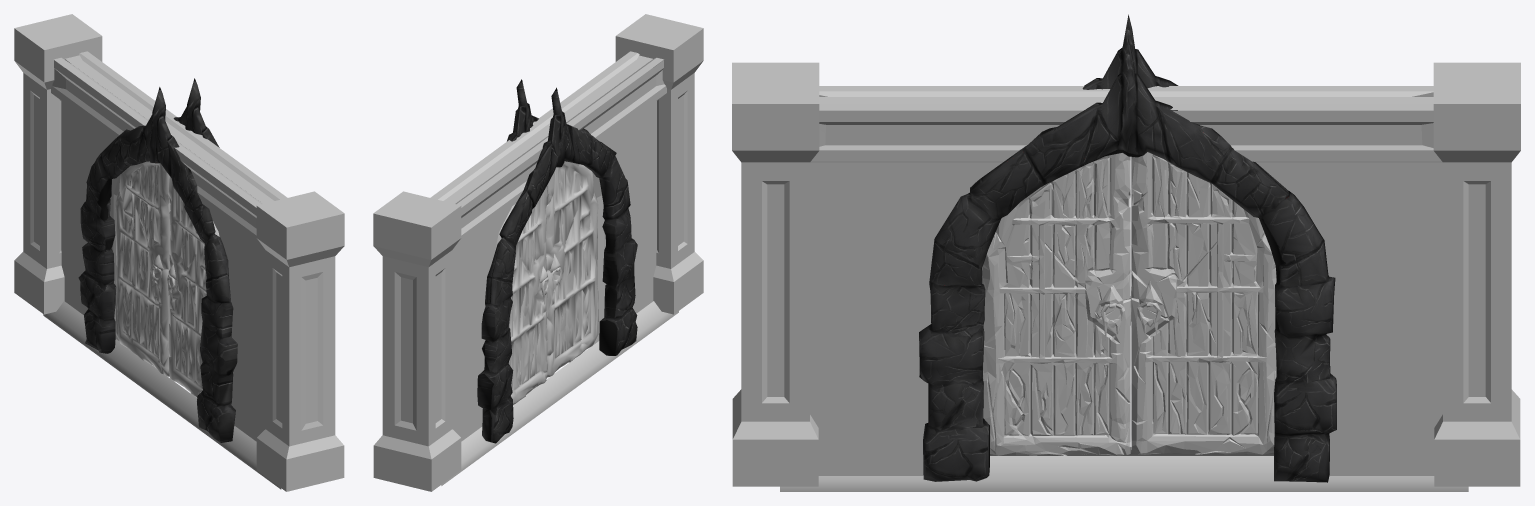
File: GateWay.FBX
3 renders of one model, left to right at view 1: azimuth 30°, elevation 25°; view 2: azimuth 150°, elevation 25°; view 3: azimuth 270°, elevation 25°, orthographic. The views are drawn at different scales.
Visible parts, largest first — view 1: Pllar004, Group32716, Box002, Pllar003, Trims002, DoorRightLow, DoorLeftLow, Trims003, Group32715; view 2: Pllar003, Group32716, Box002, Pllar004, Trims002, DoorLeftLow, DoorRightLow, Trims003, Group32715; view 3: Box003, Group32715, DoorLeftLow, DoorRightLow, Trims003, Pllar003, Pllar004, Trims002, Box002, Group32716.
Boxes of the visible parts, left/top/right/bottom form: Pllar004: left=256, top=191, right=344, bottom=491; Group32716: left=78, top=87, right=237, bottom=442; Box002: left=61, top=56, right=272, bottom=441; Pllar003: left=14, top=14, right=102, bottom=314; Trims002: left=43, top=57, right=281, bottom=489; DoorRightLow: left=115, top=161, right=170, bottom=376; DoorLeftLow: left=167, top=176, right=219, bottom=397; Trims003: left=79, top=51, right=287, bottom=200; Group32715: left=173, top=78, right=219, bottom=147; Pllar003: left=373, top=191, right=461, bottom=491; Group32716: left=477, top=87, right=637, bottom=443; Box002: left=445, top=56, right=656, bottom=441; Pllar004: left=615, top=14, right=703, bottom=314; Trims002: left=441, top=57, right=678, bottom=485; DoorLeftLow: left=545, top=161, right=598, bottom=377; DoorRightLow: left=495, top=185, right=549, bottom=404; Trims003: left=430, top=51, right=639, bottom=200; Group32715: left=507, top=79, right=538, bottom=141; Box003: left=810, top=104, right=1442, bottom=475; Group32715: left=919, top=39, right=1336, bottom=482; DoorLeftLow: left=982, top=153, right=1131, bottom=455; DoorRightLow: left=1131, top=152, right=1275, bottom=454; Trims003: left=780, top=104, right=1468, bottom=491; Pllar003: left=1433, top=62, right=1520, bottom=486; Pllar004: left=732, top=62, right=819, bottom=486; Trims002: left=819, top=86, right=1433, bottom=455; Box002: left=819, top=97, right=1433, bottom=104; Group32716: left=982, top=14, right=1178, bottom=378.
Size of the model in its own units: 23.42 by 116 by 183.
